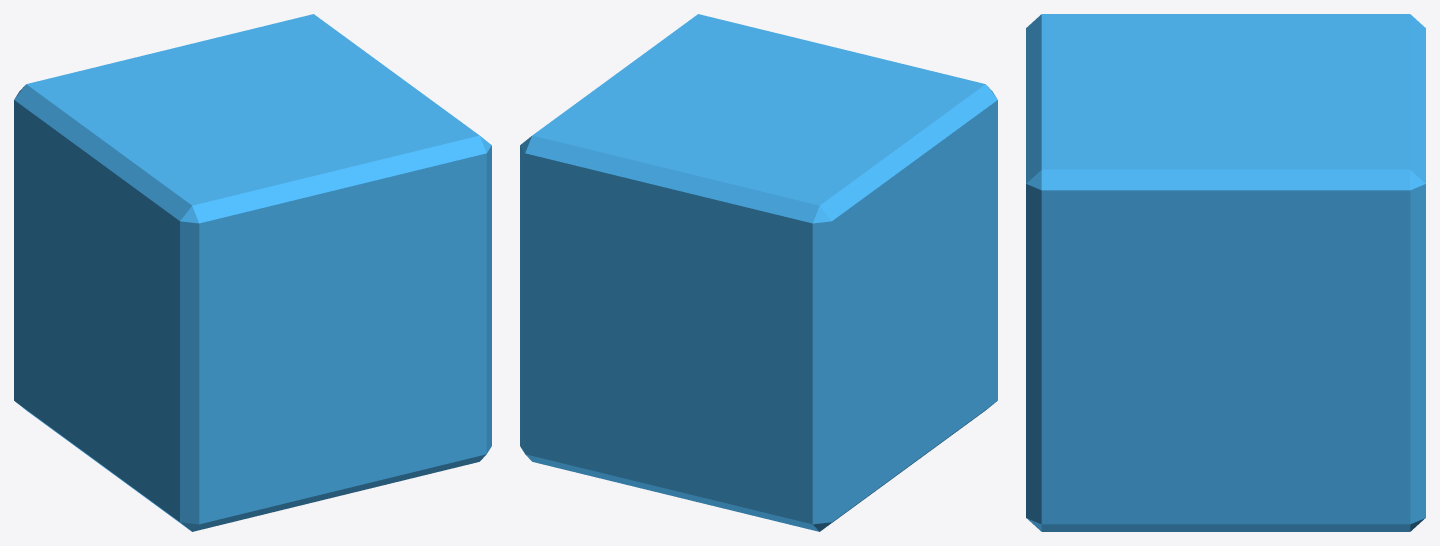
Rendered from stone-lightblue.glb.
3 renders of one model, left to right at view 1: azimuth 30°, elevation 25°; view 2: azimuth 150°, elevation 25°; view 3: azimuth 270°, elevation 25°, orthographic. The views are drawn at different scales.
Visible parts, largest first — view 1: stone-lightblue; view 2: stone-lightblue; view 3: stone-lightblue.
Boxes of the visible parts, x1,y1,x2,y2 form: stone-lightblue: (14, 14, 491, 531); stone-lightblue: (520, 14, 997, 531); stone-lightblue: (1026, 14, 1425, 531).
Size of the model in its own units: 1 by 1 by 1.
